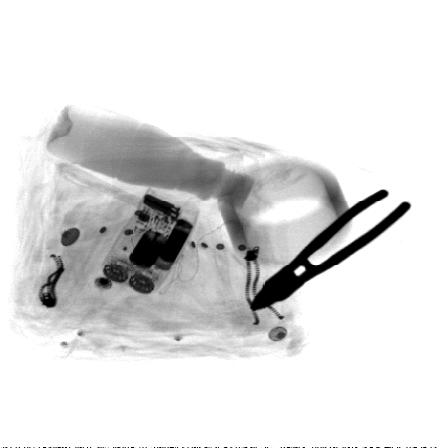Pliers: (248, 187, 414, 312)
